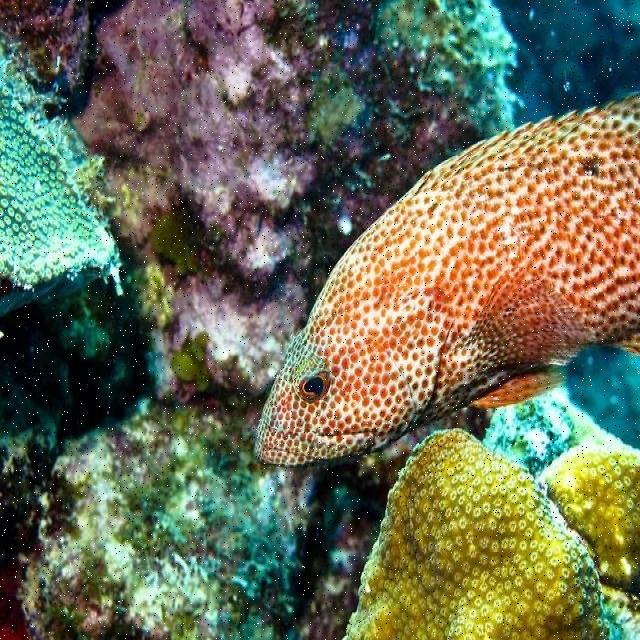fish: (254, 92, 639, 469)
reefs: (341, 428, 611, 639), (1, 46, 114, 317), (540, 444, 639, 596)
